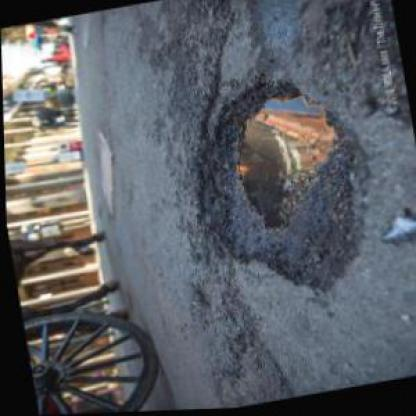pothole: (169, 63, 384, 318)
